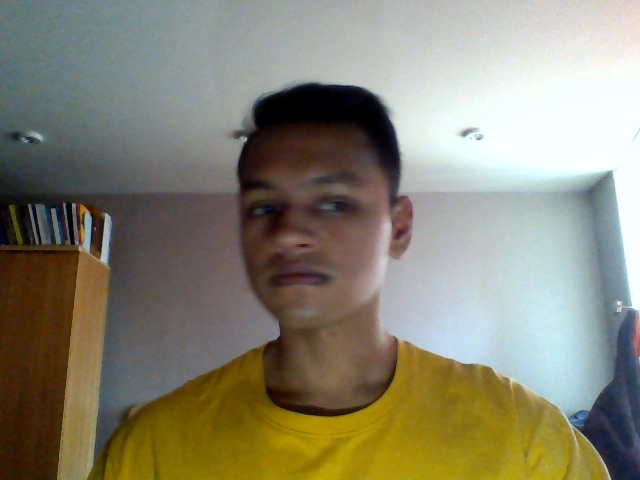no_mask: (235, 226, 380, 327)
